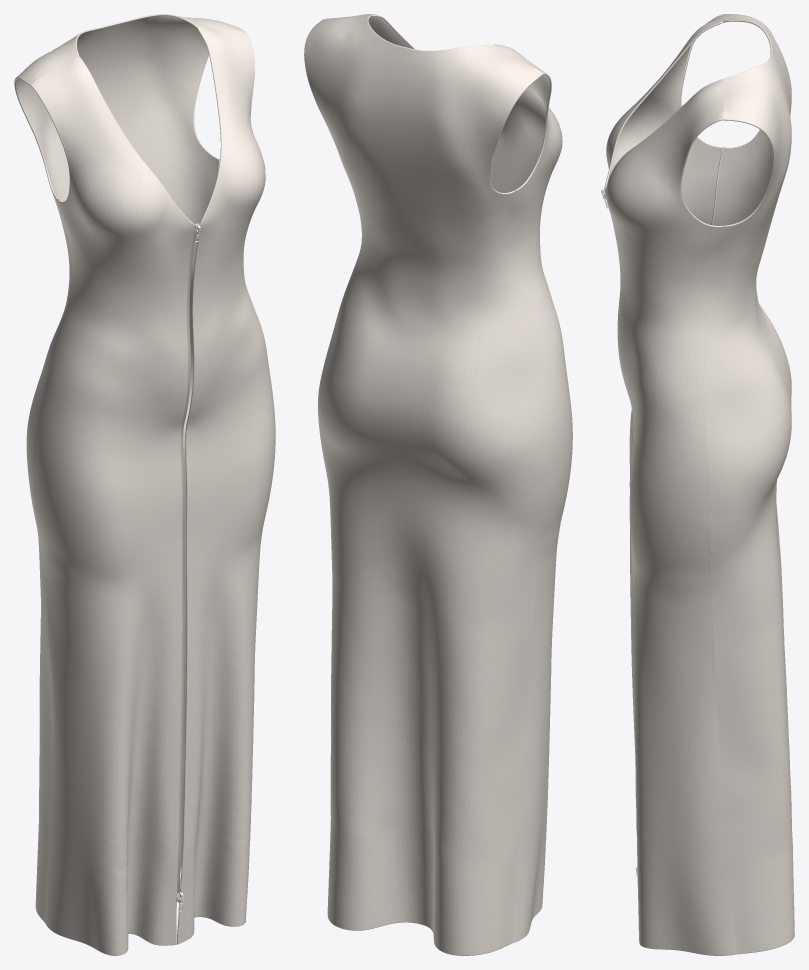
File: a_white_v-neck_sleeveless_knitted_zipper_dress.glb
3 views of the same model, side by side, from view 1: azimuth 30°, elevation 25°; view 2: azimuth 150°, elevation 25°; view 3: azimuth 270°, elevation 25° (orthographic). The views are drawn at different scales.
Visible parts, largest first — view 1: Object_5, Object_3, Object_7, Object_2; view 2: Object_7, Object_5, Object_3; view 3: Object_3, Object_7, Object_5.
Part boxes in pixels (x1,y1,x2,y2): Object_5: (30, 56, 194, 955); Object_3: (176, 27, 275, 944); Object_7: (14, 14, 245, 922); Object_2: (177, 224, 196, 894); Object_7: (304, 15, 553, 955); Object_5: (490, 44, 572, 942); Object_3: (332, 14, 415, 49); Object_3: (604, 78, 736, 955); Object_7: (705, 14, 794, 954); Object_5: (604, 14, 723, 466).
Bounding box in the file's own units: 14.14 × 52.61 × 10.54.
Materials: 2 (1 with a texture image).
